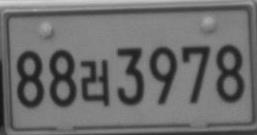3: (116, 47, 144, 105)
7: (181, 45, 210, 104)
8: (215, 44, 245, 102), (15, 50, 44, 108), (48, 49, 77, 107)
9: (148, 45, 177, 104)
러: (80, 58, 109, 106)
